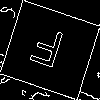F: (25, 24, 66, 79)
